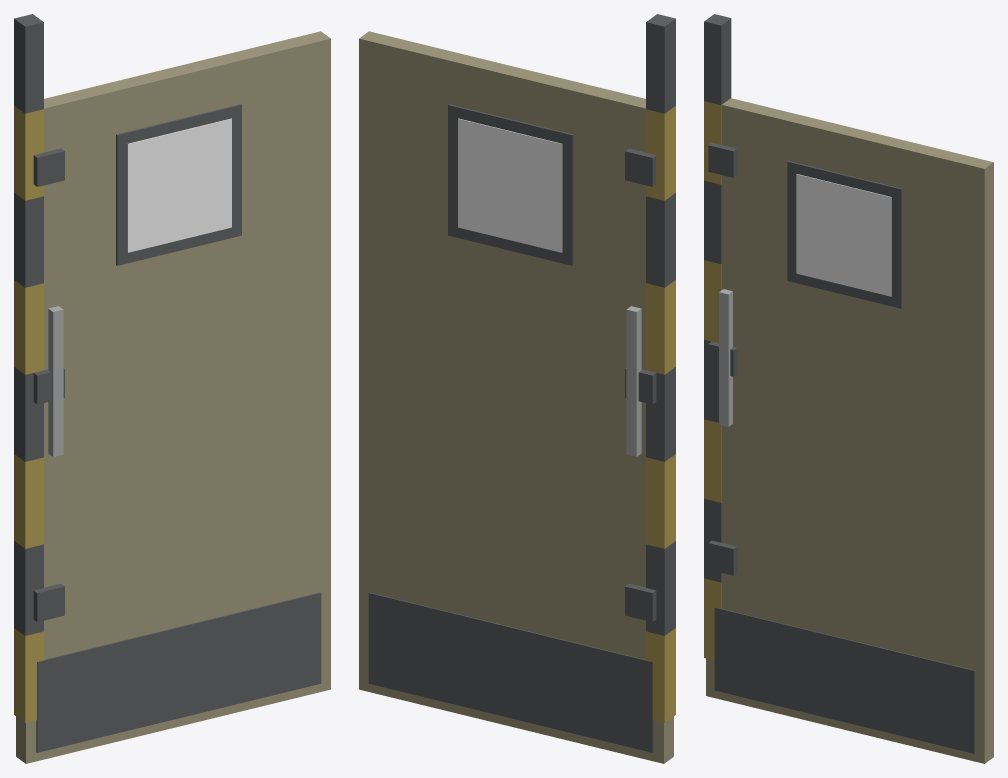
File: habBulkhead_steel_door.glb
3 renders of one model, left to right at view 1: azimuth 30°, elevation 25°; view 2: azimuth 150°, elevation 25°; view 3: azimuth 330°, elevation 25°, orthographic. The views are drawn at different scales.
Parts seen in each view (by area): view 1: habBulkhead_steel_door; view 2: habBulkhead_steel_door; view 3: habBulkhead_steel_door.
Boxes of the visible parts, <box> form: habBulkhead_steel_door: <box>14,14,330,763</box>; habBulkhead_steel_door: <box>359,14,675,763</box>; habBulkhead_steel_door: <box>704,14,993,763</box>.
Size of the model in its own units: 0.884 by 2.03 by 0.114.
